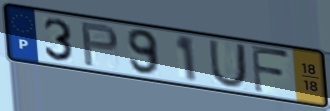1: (175, 34, 199, 84)
3: (42, 17, 75, 63)
9: (125, 29, 162, 78)
F: (249, 43, 292, 96)
P: (79, 21, 121, 68)
U: (207, 39, 249, 90)
